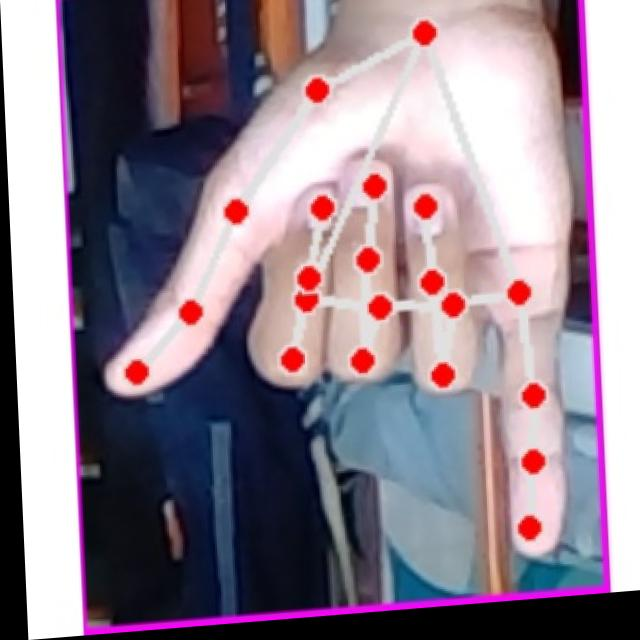Y: (76, 6, 585, 600)
